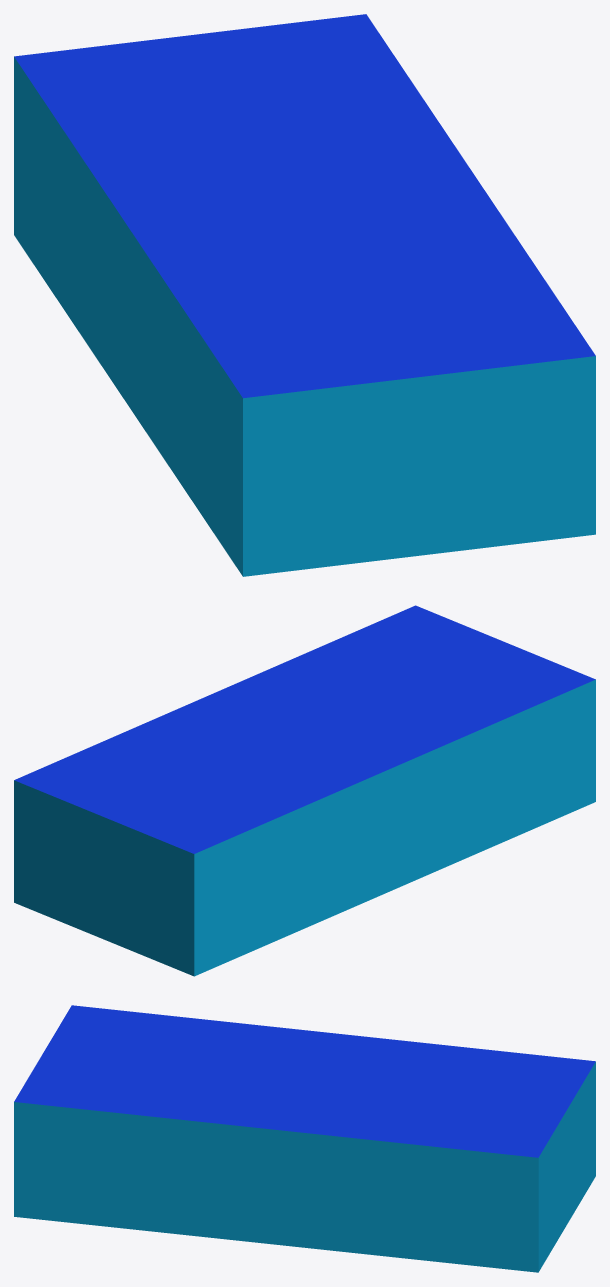
Rendered from map_21.osm_buildings.002.gltf.
The picture shows the model from 3 angles, top to bottom: view 1: azimuth 30°, elevation 25°; view 2: azimuth 150°, elevation 25°; view 3: azimuth 270°, elevation 25°; orthographic projection. The views are drawn at different scales.
Visible parts, largest first — view 1: map_21.osm_buildings.002; view 2: map_21.osm_buildings.002; view 3: map_21.osm_buildings.002.
Part boxes in pixels (x1,y1,x2,y2): map_21.osm_buildings.002: [14, 14, 595, 576]; map_21.osm_buildings.002: [14, 605, 595, 976]; map_21.osm_buildings.002: [14, 1005, 595, 1272].
Size of the model in its own units: 12.93 by 4.54 by 20.85.
